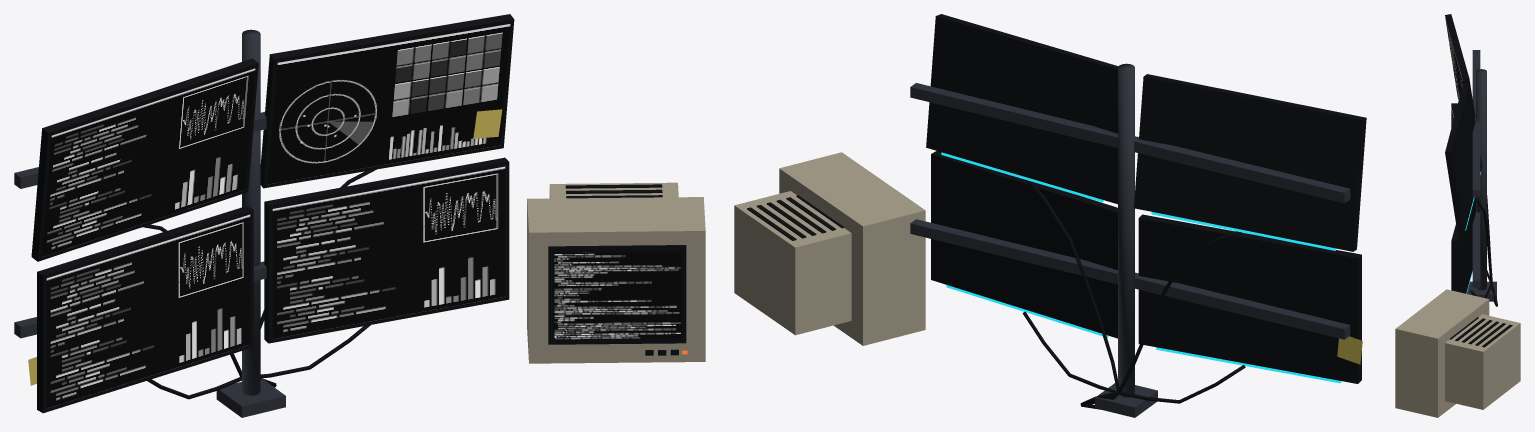
File: Tech_MonitorStack.glb
3 views of the same model, side by side, from view 1: azimuth 30°, elevation 25°; view 2: azimuth 150°, elevation 25°; view 3: azimuth 270°, elevation 25° (orthographic). The views are drawn at different scales.
Parts seen in each view (by area): view 1: Tech_MonitorStack; view 2: Tech_MonitorStack; view 3: Tech_MonitorStack.
Part boxes in pixels (<box>): Tech_MonitorStack: <box>14,14,705,417</box>; Tech_MonitorStack: <box>734,14,1366,417</box>; Tech_MonitorStack: <box>1395,14,1520,417</box>.
Bounding box in the file's own units: 1.83 × 0.9696 × 0.4899.
Materials: 9 (3 with a texture image).
